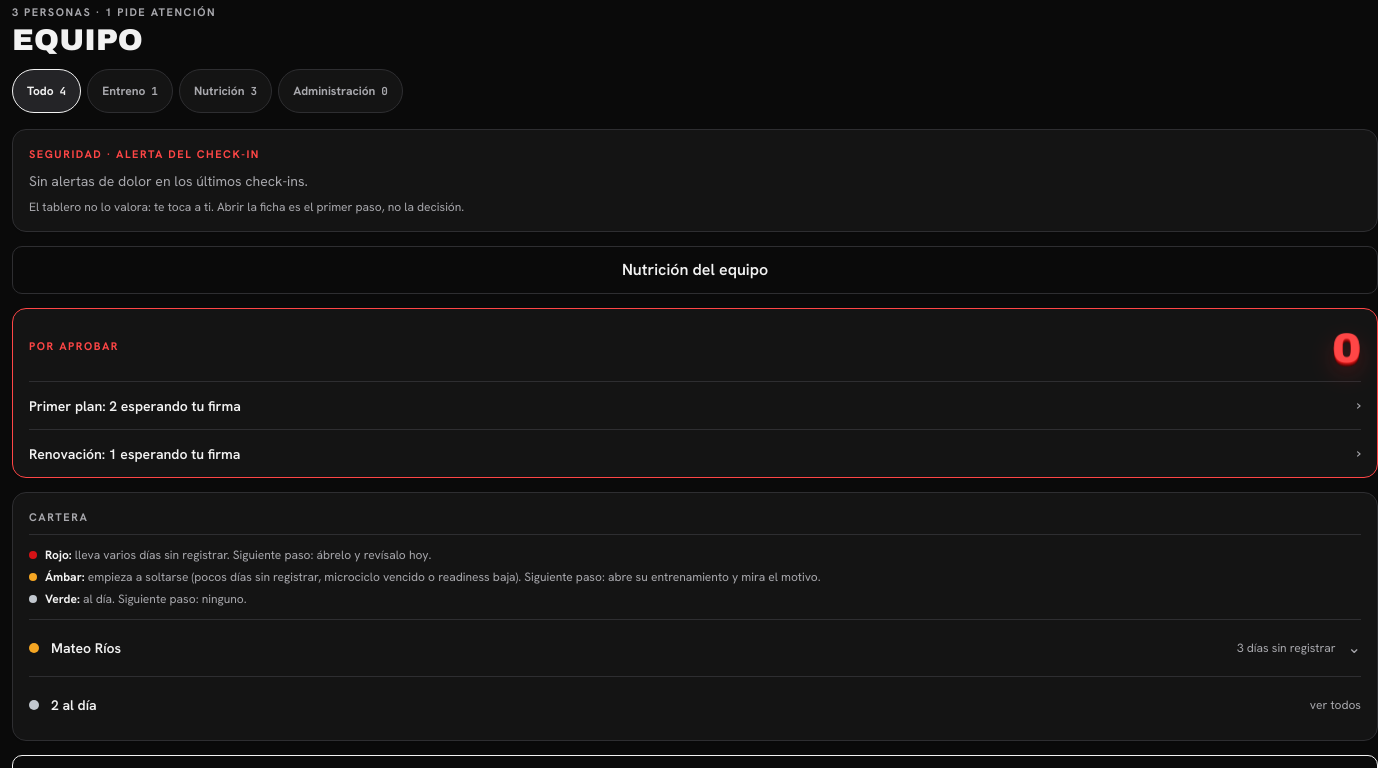
Test: Equipo: sombreros, ficha única y seguridad › el sombrero de Nutrición deja las firmas y esconde la cartera
Check: the element "Cartera" is shown, box [12,492,1377,741]
Click the button "Nutrición 3".
click(226, 91)  # box [179,69,272,113]
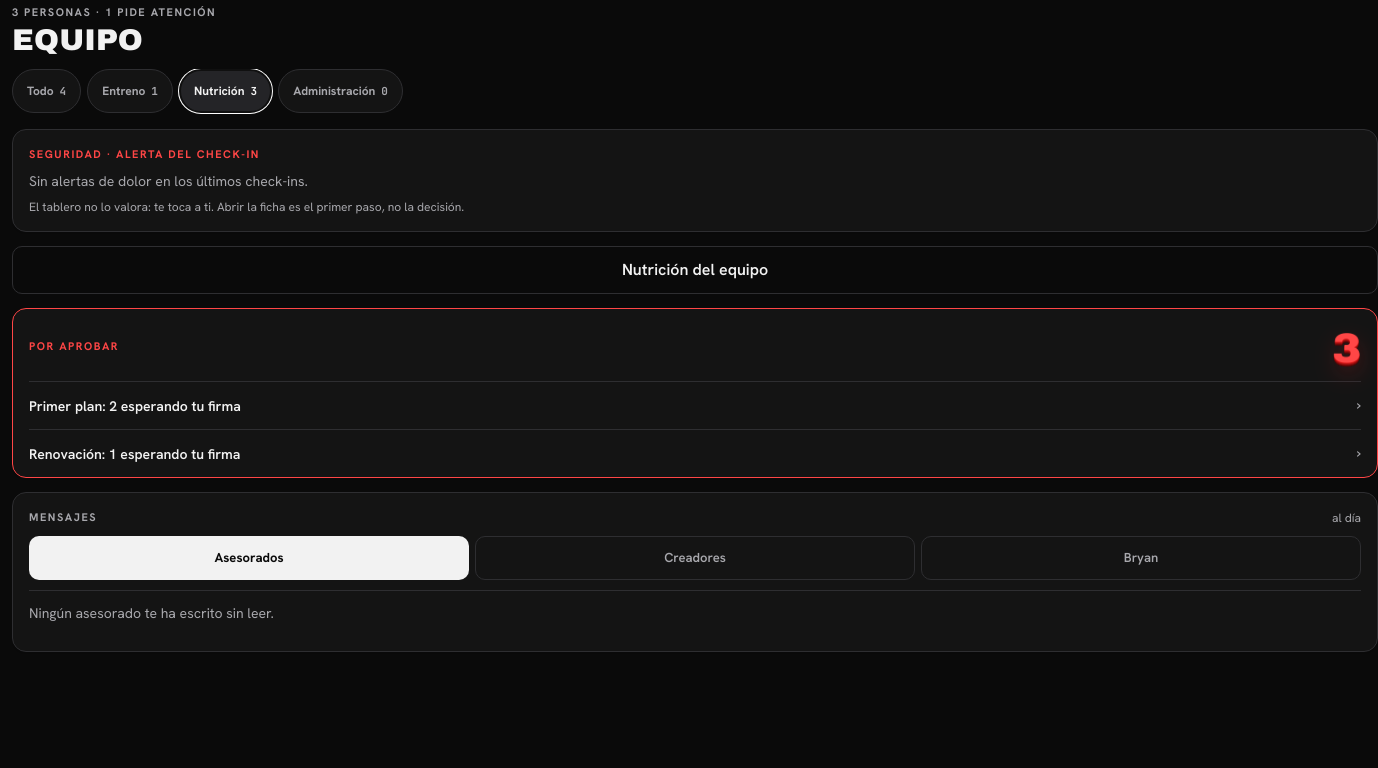
Check: the element "Por aprobar" is shown, box [12,308,1377,478]
Check: the text "Cartera" is gone
